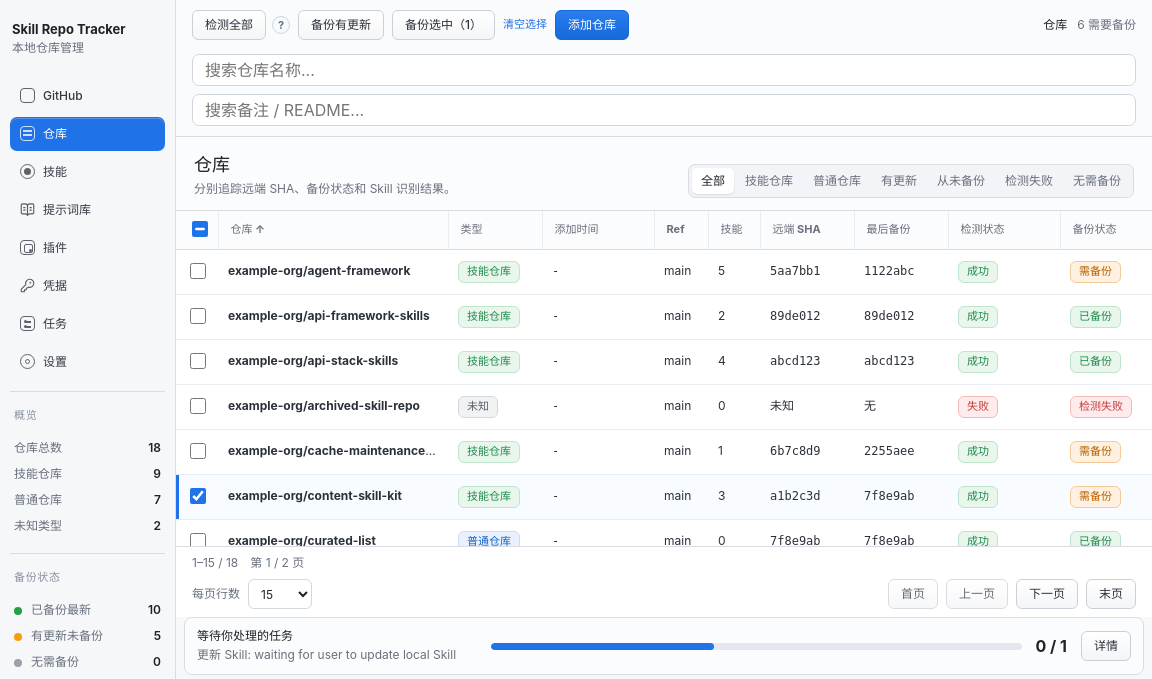
Test: App prompt library integration › opens a prompt-specific workspace without reusing another tab inspector
Step 1. Click the button "提示词库" → (88, 210), box top-left (10, 193), bottom-right (165, 227)
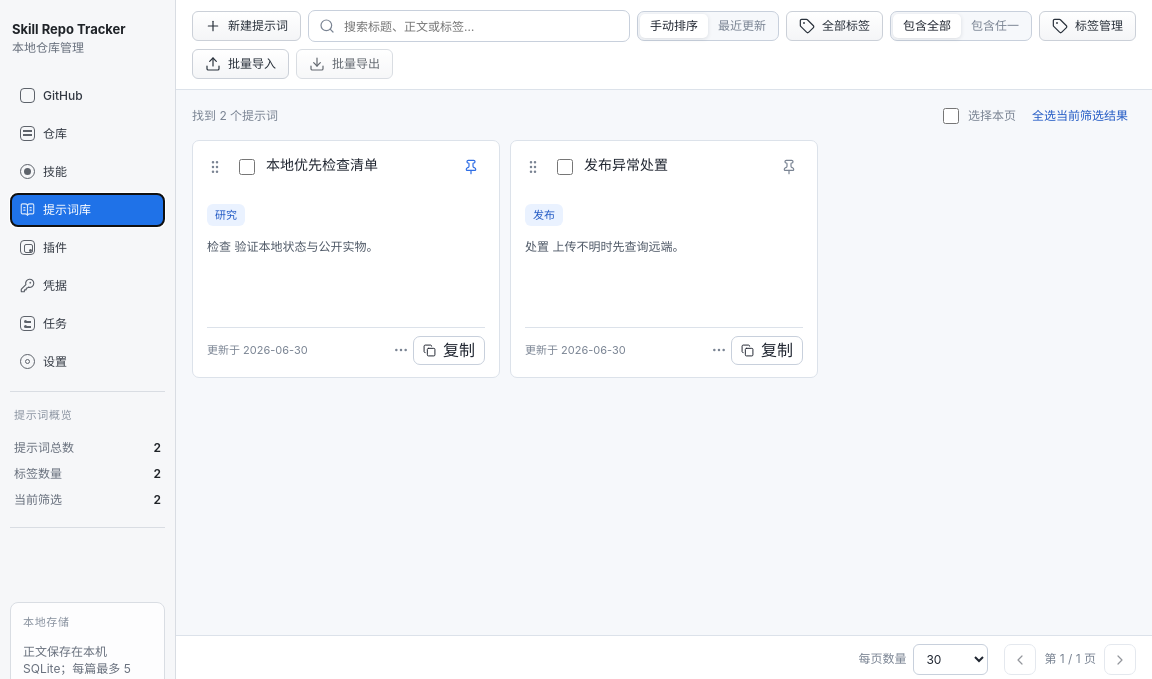
Check: the button "新建提示词" is shown, box top-left (192, 11), bottom-right (301, 41)
